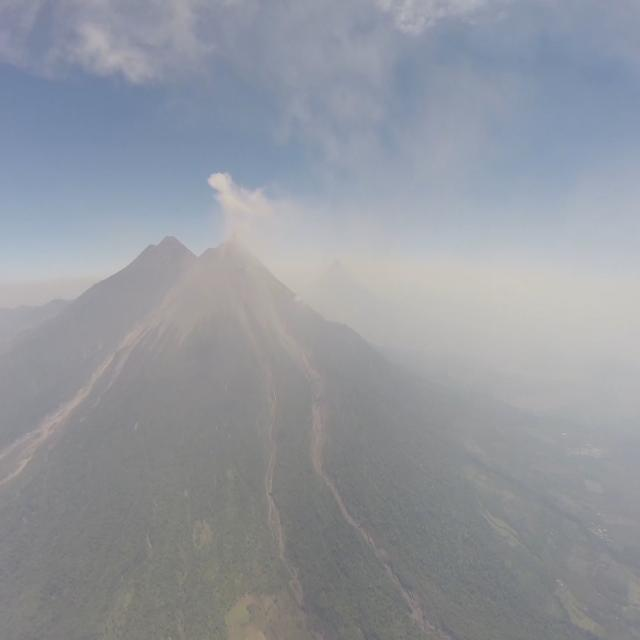Plume: (208, 167, 276, 241)
Summit: (207, 230, 262, 256)
